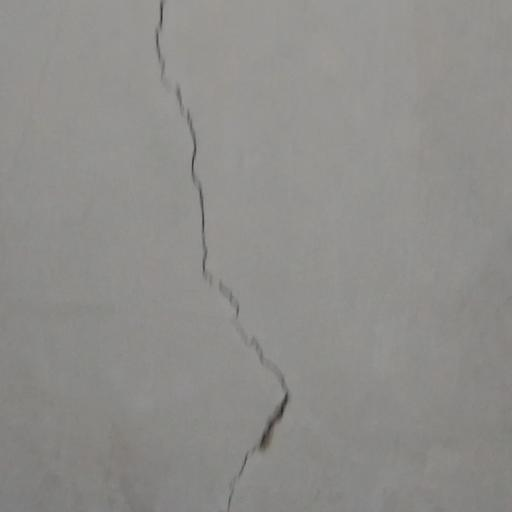minor_crack: (139, 0, 290, 512)
